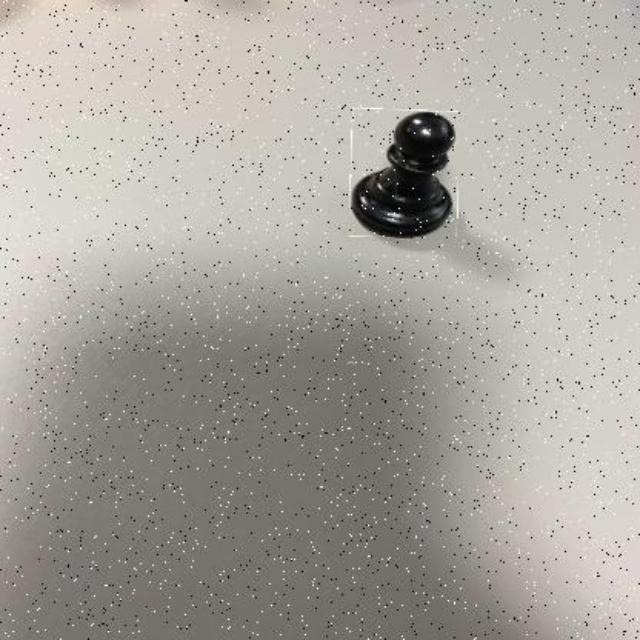black-pawn: (350, 108, 459, 237)
